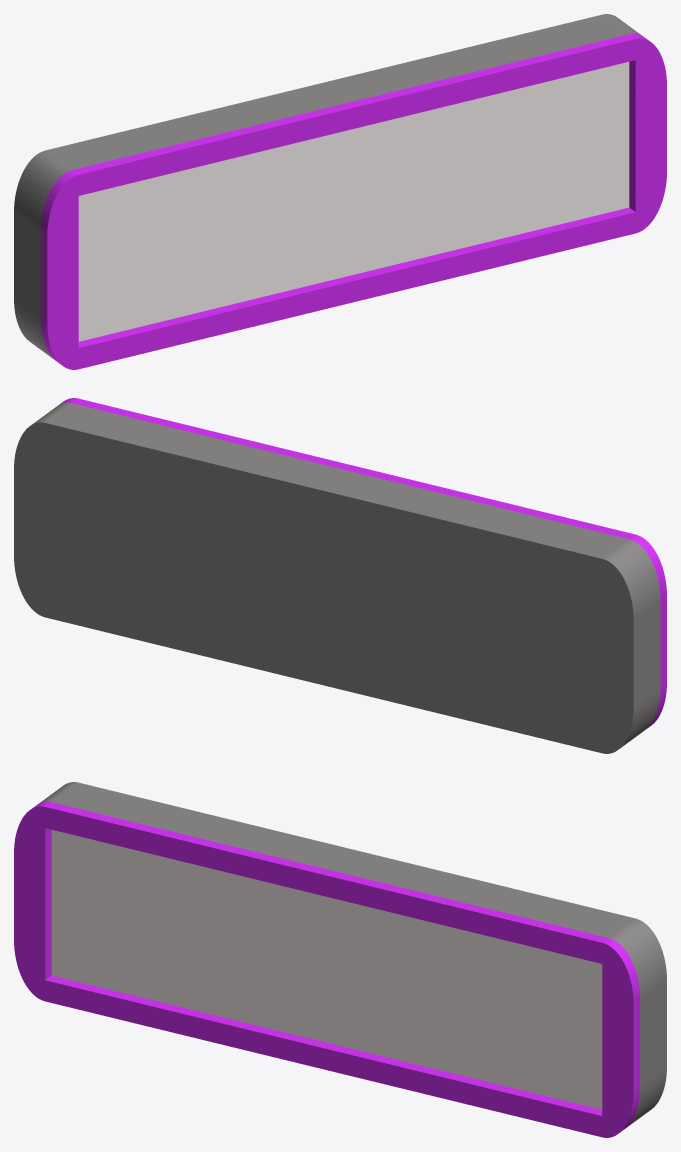
File: Sign.fbx
3 renders of one model, top to bottom at view 1: azimuth 30°, elevation 25°; view 2: azimuth 150°, elevation 25°; view 3: azimuth 330°, elevation 25°, orthographic.
Visible parts, largest first — view 1: Plane; view 2: Plane; view 3: Plane.
Part boxes in pixels (<box>): Plane: <box>14,14,666,369</box>; Plane: <box>14,398,666,753</box>; Plane: <box>14,782,666,1137</box>.
Size of the model in its own units: 1000 by 300 by 93.03.
Materials: 1 (1 with a texture image).
